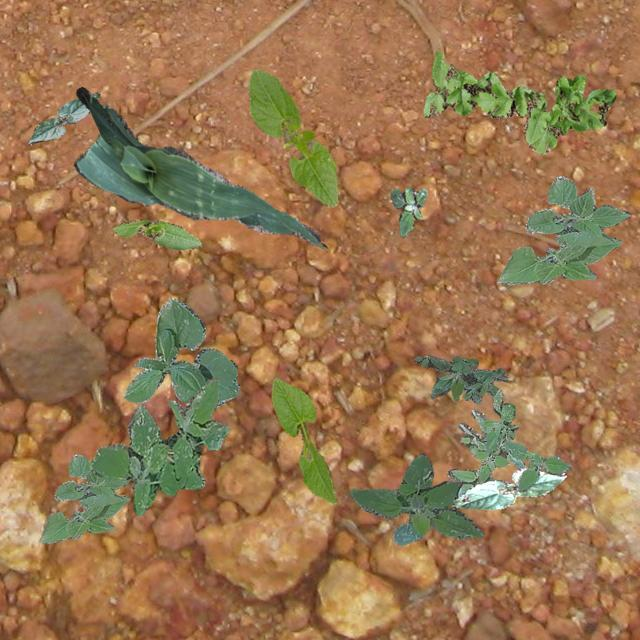crop: (72, 85, 326, 248), (496, 174, 630, 284), (122, 296, 238, 406), (248, 67, 336, 206), (38, 453, 132, 542), (270, 377, 336, 502), (450, 468, 566, 508), (26, 92, 98, 144), (112, 218, 200, 250)
weed: (422, 50, 614, 154), (88, 376, 228, 514), (348, 452, 482, 544), (474, 388, 570, 491), (446, 408, 524, 498), (413, 354, 508, 402), (390, 186, 426, 236)
